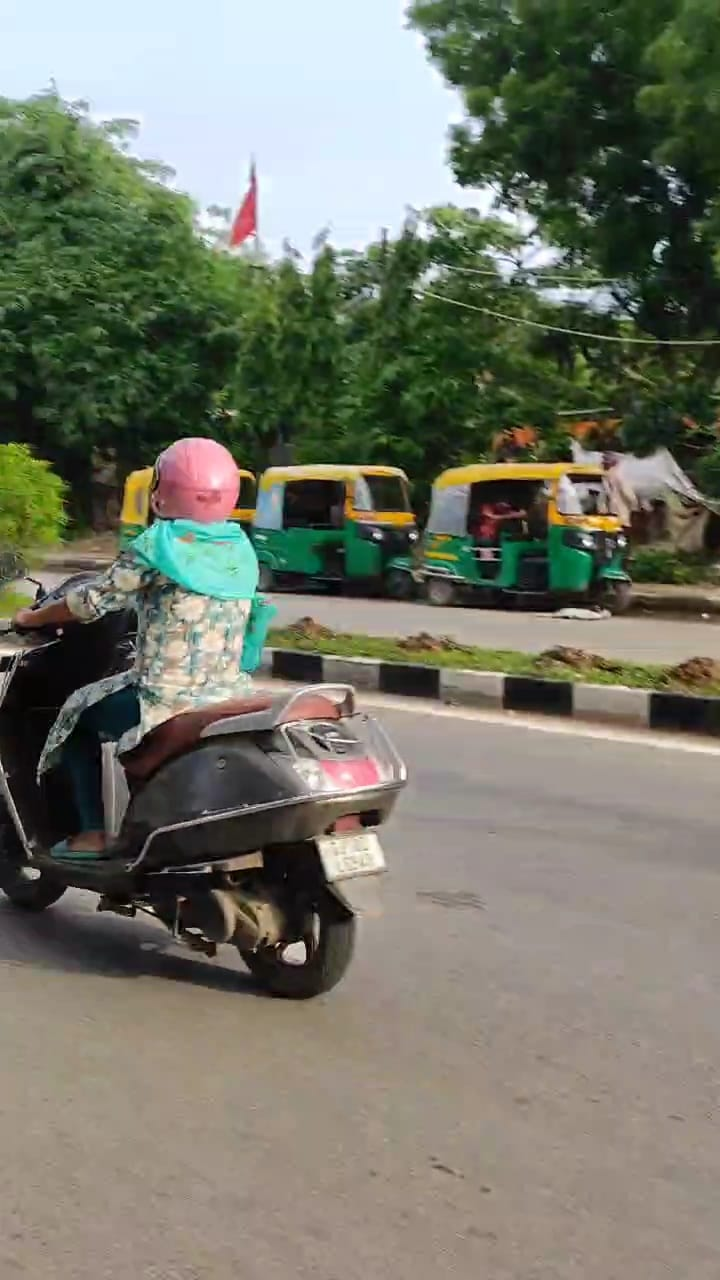BikeWithRider: (0, 425, 423, 1010)
Helmet: (137, 426, 252, 530)
